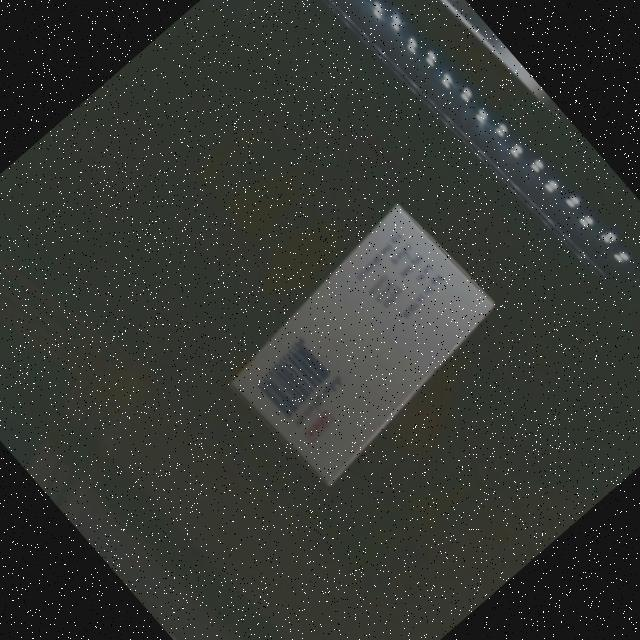sefloc: (227, 207, 505, 485)
